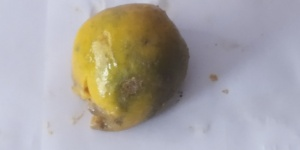BAD: (72, 4, 186, 128)
